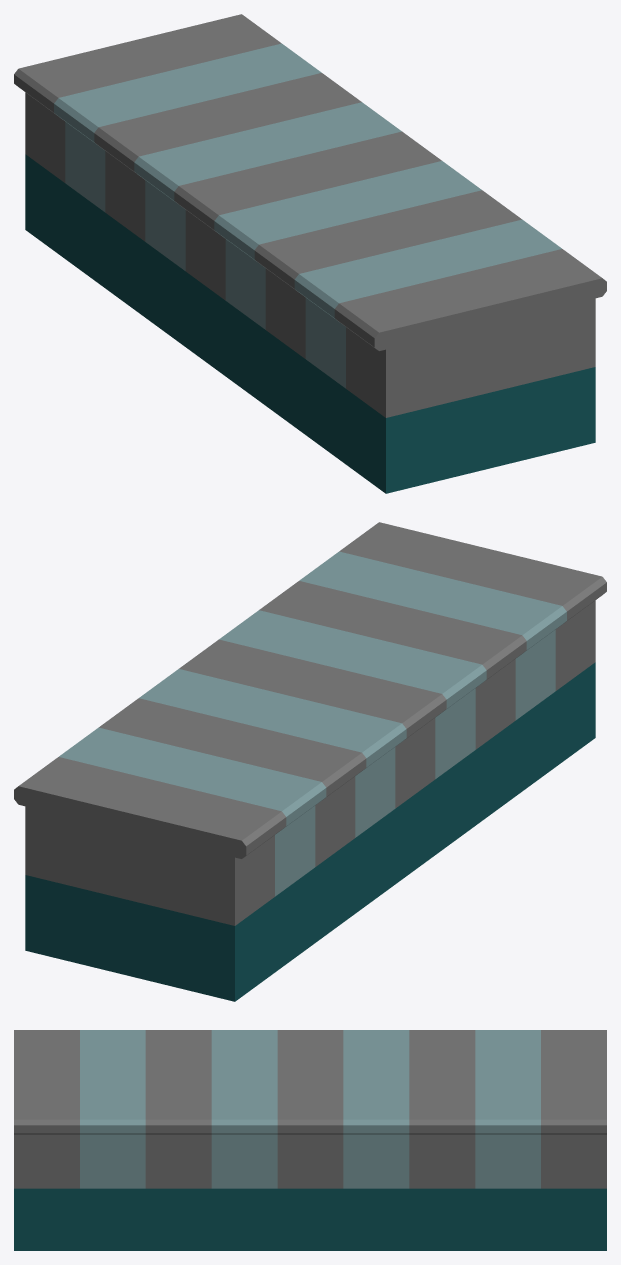
Rendered from floor_fire.fbx.
The picture shows the model from 3 angles, top to bottom: view 1: azimuth 30°, elevation 25°; view 2: azimuth 150°, elevation 25°; view 3: azimuth 270°, elevation 25°; orthographic projection. The views are drawn at different scales.
Visible parts, largest first — view 1: floor_fire; view 2: floor_fire; view 3: floor_fire.
Part boxes in pixels (box(x1,y1,x2,y2)): floor_fire: box(14, 14, 606, 493); floor_fire: box(14, 522, 606, 1001); floor_fire: box(14, 1030, 606, 1250).
Size of the model in its own units: 505 by 339 by 1360.
